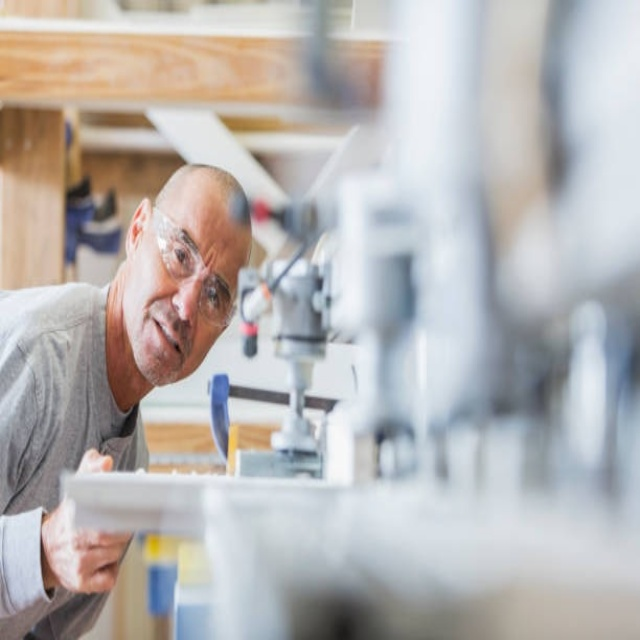Gafas: (152, 208, 238, 329)
Sin_guantes: (39, 452, 137, 597)
Sin_mascara: (135, 298, 186, 381)
